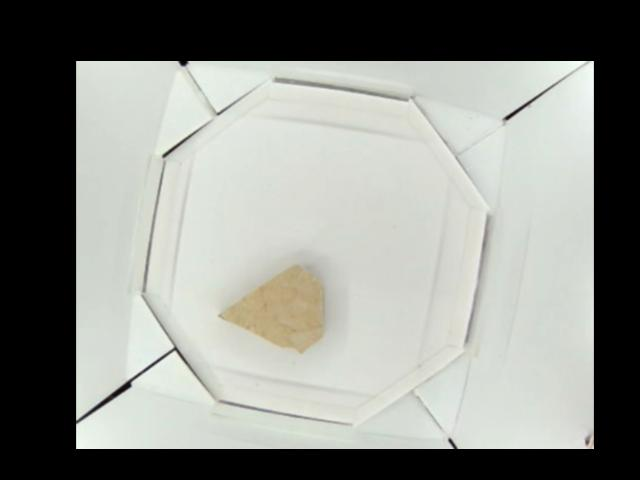China: (215, 263, 325, 357)
